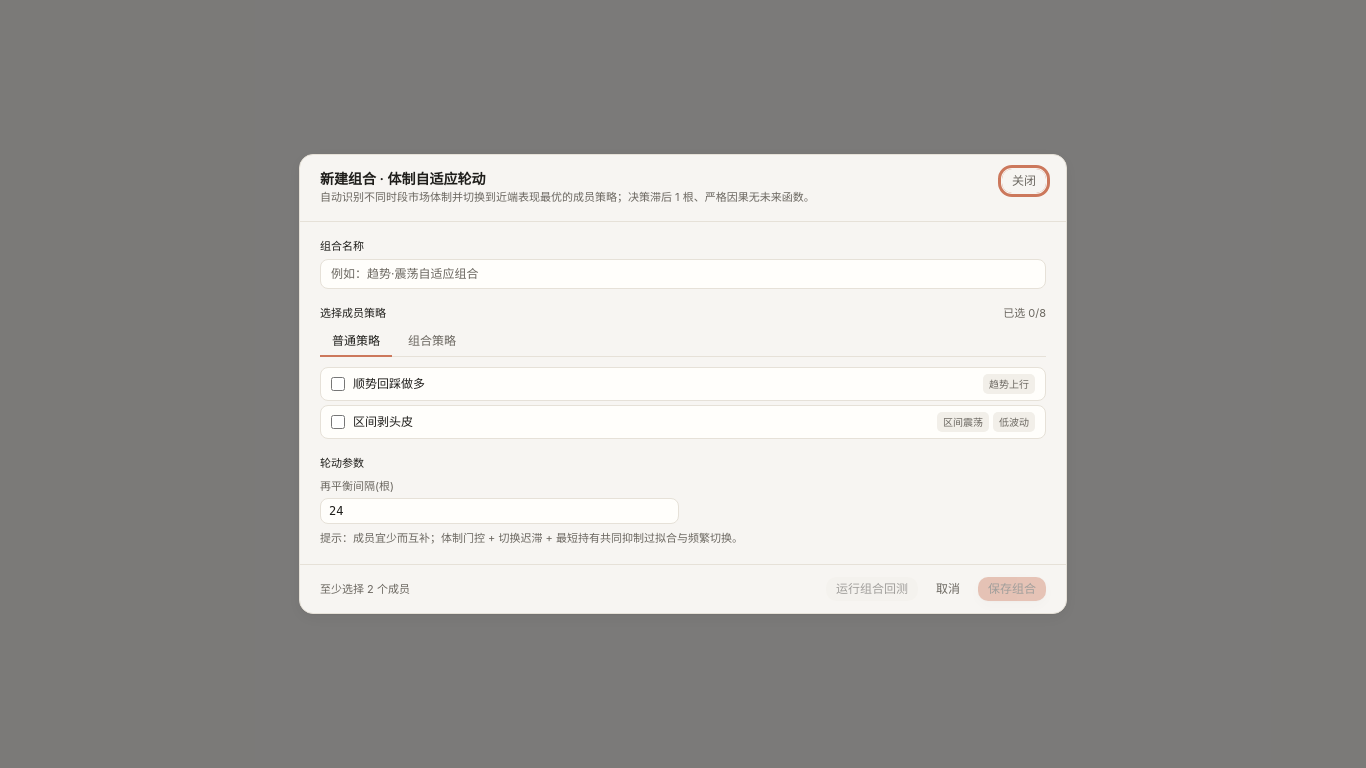
Test: ComboEditorModal › runs a combo preview and renders ComboResult (annualized + timeline)
The width and height of the screenshot is (1366, 768).
Expected: the text "顺势回踩做多" is shown, [353, 376, 425, 391]
Click the checkbox labelled "顺势回踩做多 趋势上行" at (338, 384), box [331, 377, 345, 391]
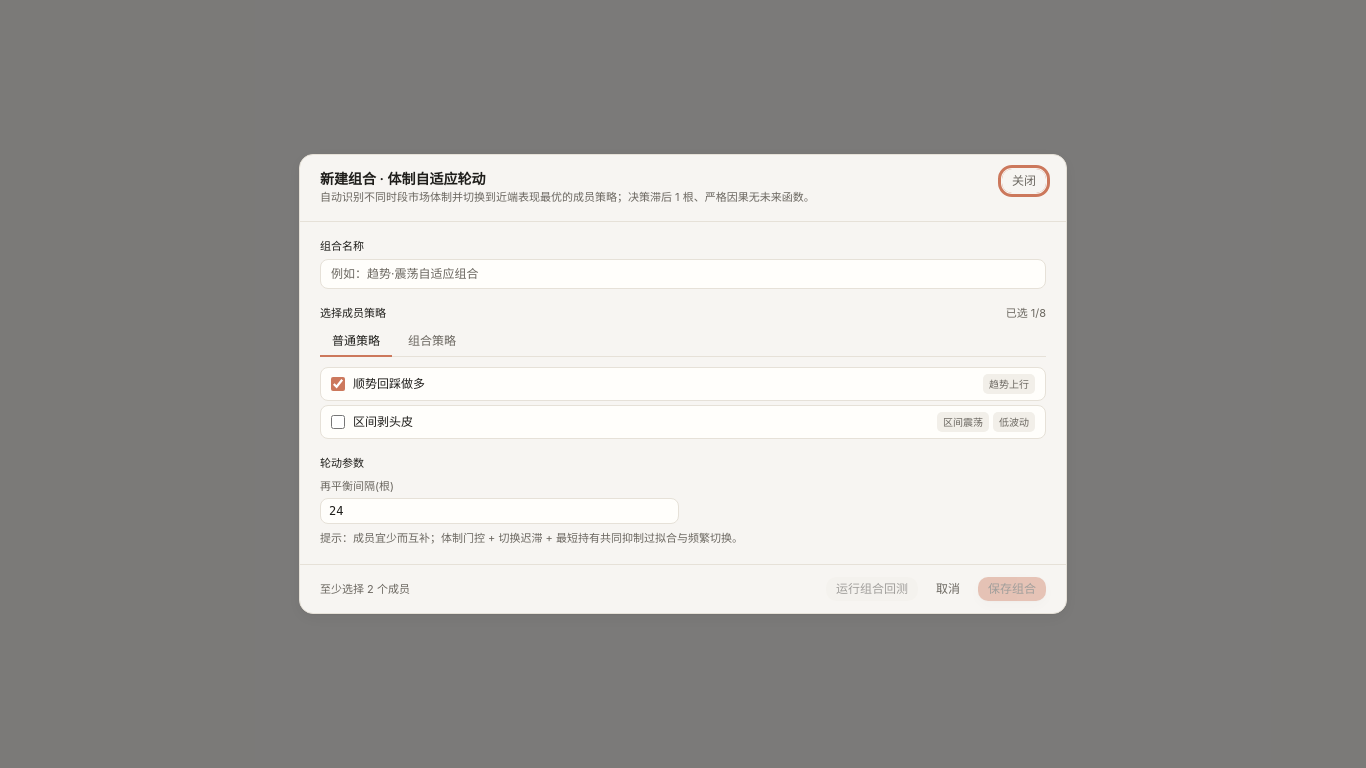
Click the checkbox labelled "区间剥头皮 区间震荡 低波动" at (338, 422), box [331, 415, 345, 429]
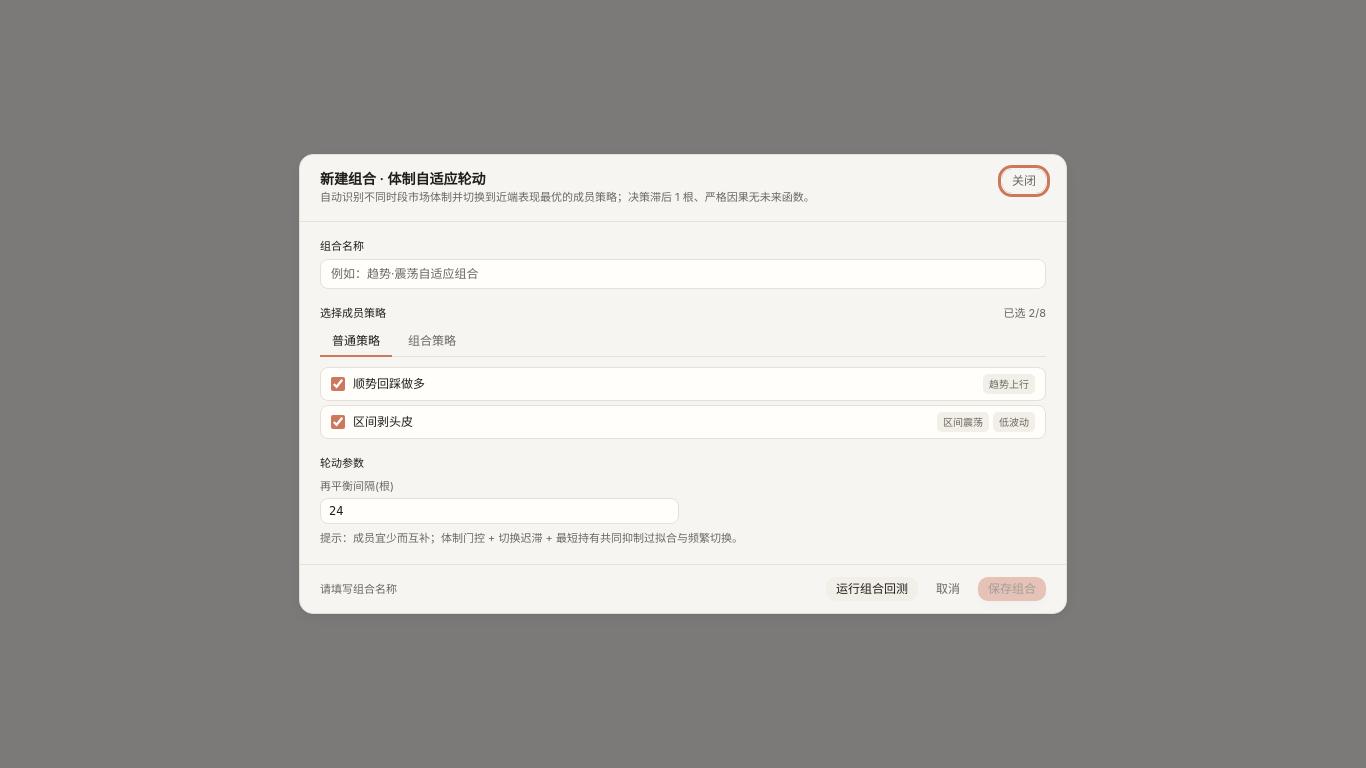
Click the button "运行组合回测" at (872, 589), box [826, 577, 918, 601]
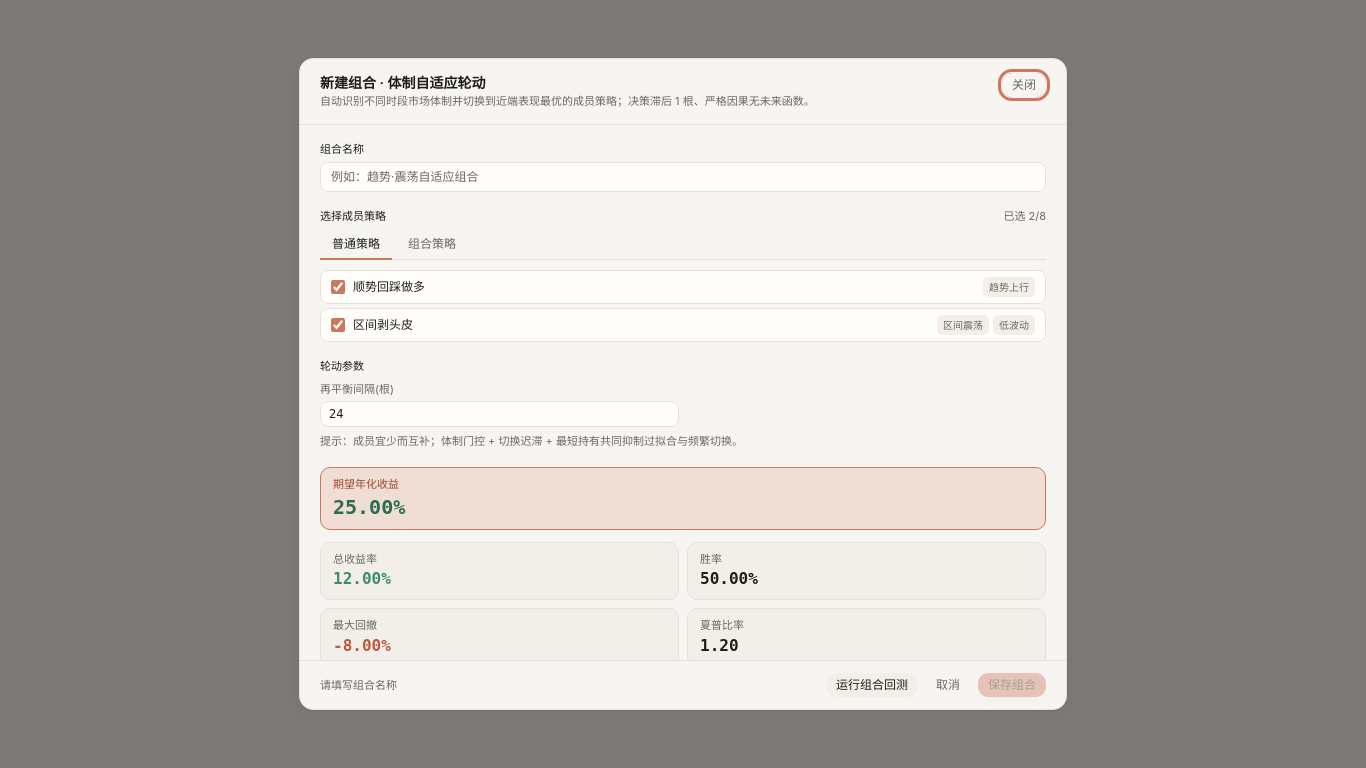
Expected: the text "期望年化收益" is shown, [333, 477, 399, 491]
Expected: the text "25.00%" is shown, [333, 495, 405, 519]
